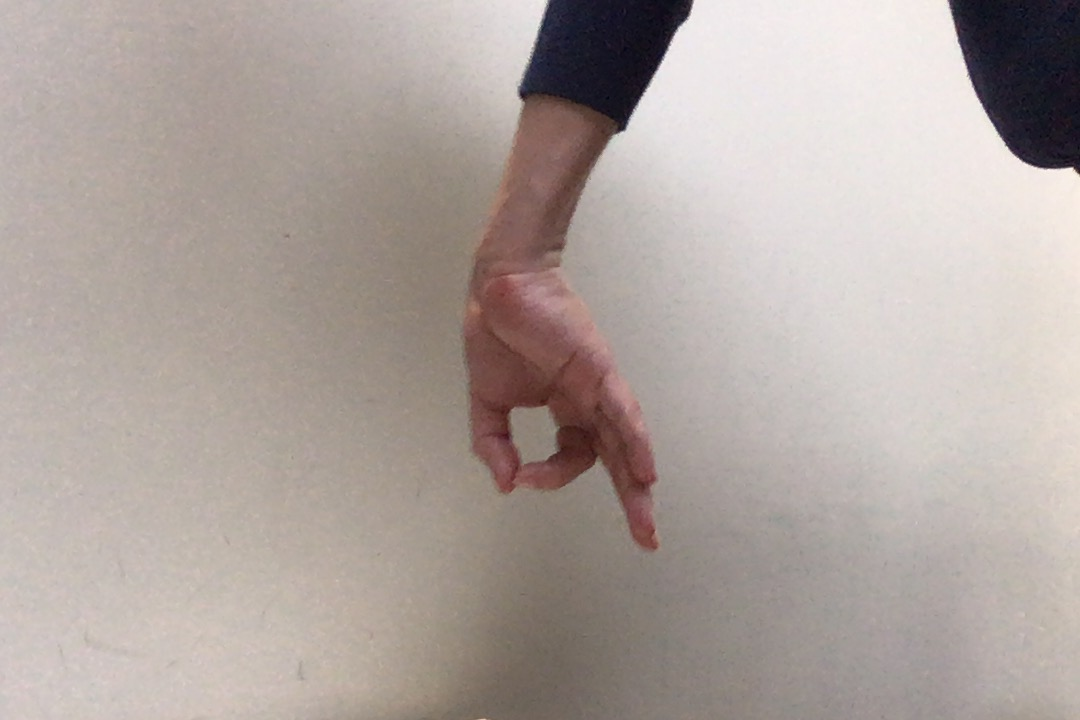oksign: (453, 258, 667, 560)
